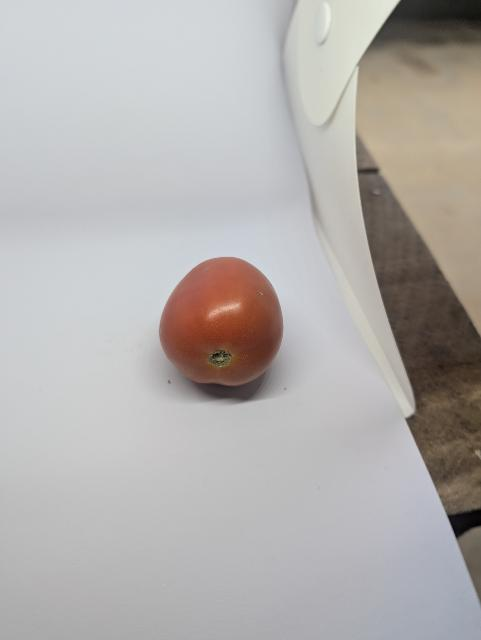red: (148, 238, 299, 414)
